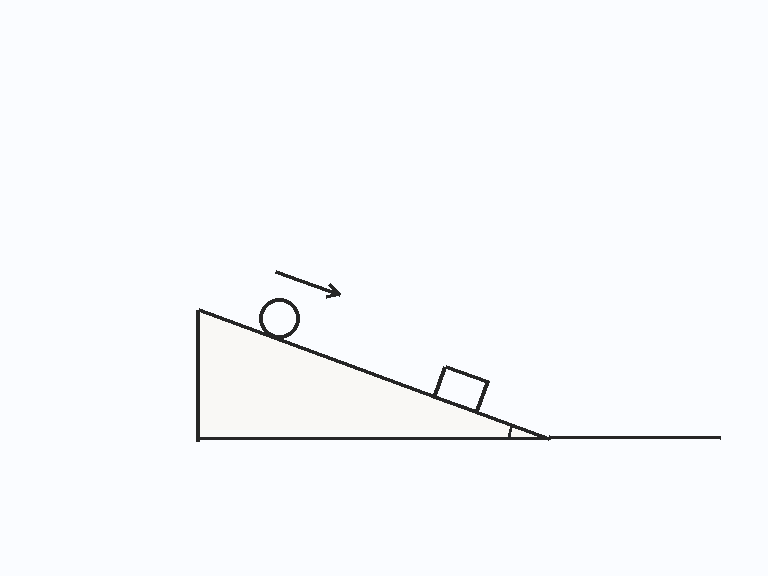ball: (257, 296, 301, 340)
block: (433, 364, 489, 413)
ramp: (196, 308, 551, 440)
